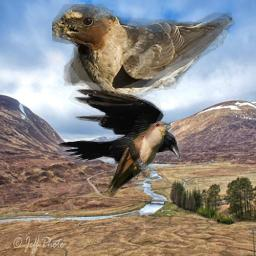Crow: (54, 87, 181, 180)
Cuckoo: (105, 121, 171, 198)
Swallow: (52, 4, 235, 103)
